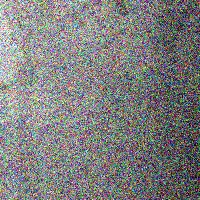pitted_surface: (71, 3, 199, 197), (0, 3, 93, 200)
